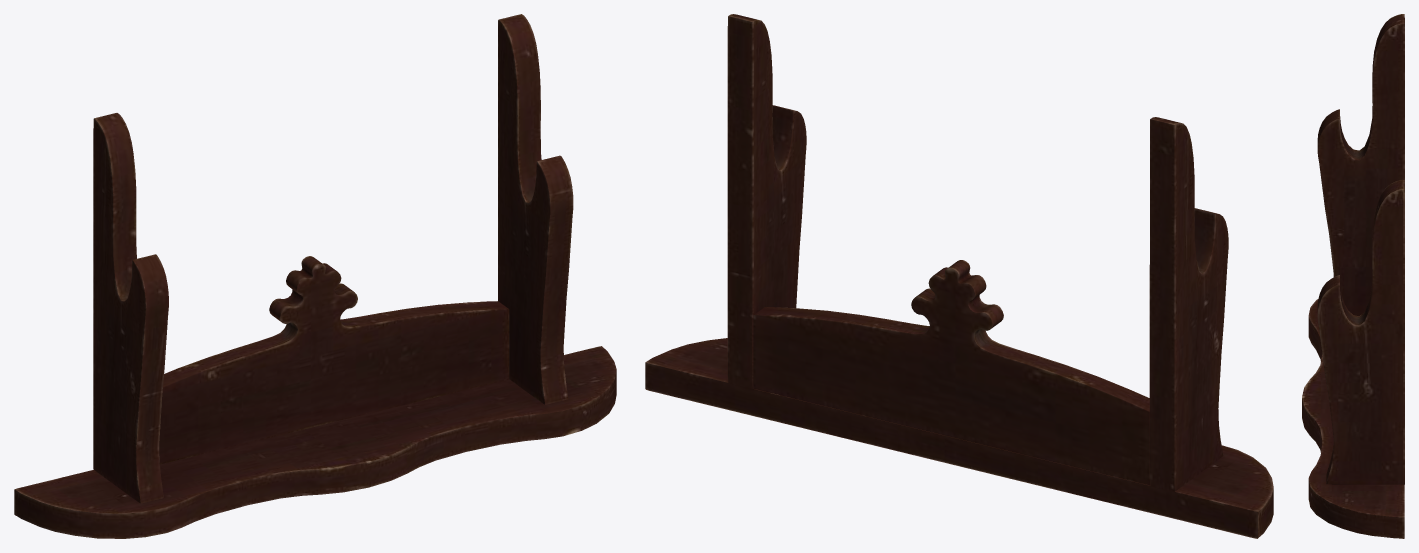
The model's file is polyhaven-katana-stand-01.glb.
The picture shows the model from 3 angles, left to right: view 1: azimuth 30°, elevation 25°; view 2: azimuth 150°, elevation 25°; view 3: azimuth 270°, elevation 25°; orthographic projection. The views are drawn at different scales.
Visible parts, largest first — view 1: katana_stand_01; view 2: katana_stand_01; view 3: katana_stand_01.
Boxes of the visible parts, x1=… form: katana_stand_01: x1=14, y1=14, x2=616, y2=538; katana_stand_01: x1=645, y1=14, x2=1273, y2=538; katana_stand_01: x1=1302, y1=14, x2=1404, y2=538.
Bounding box in the file's own units: 0.2958 × 0.1819 × 0.0535.
Materials: 1 (1 with a texture image).
